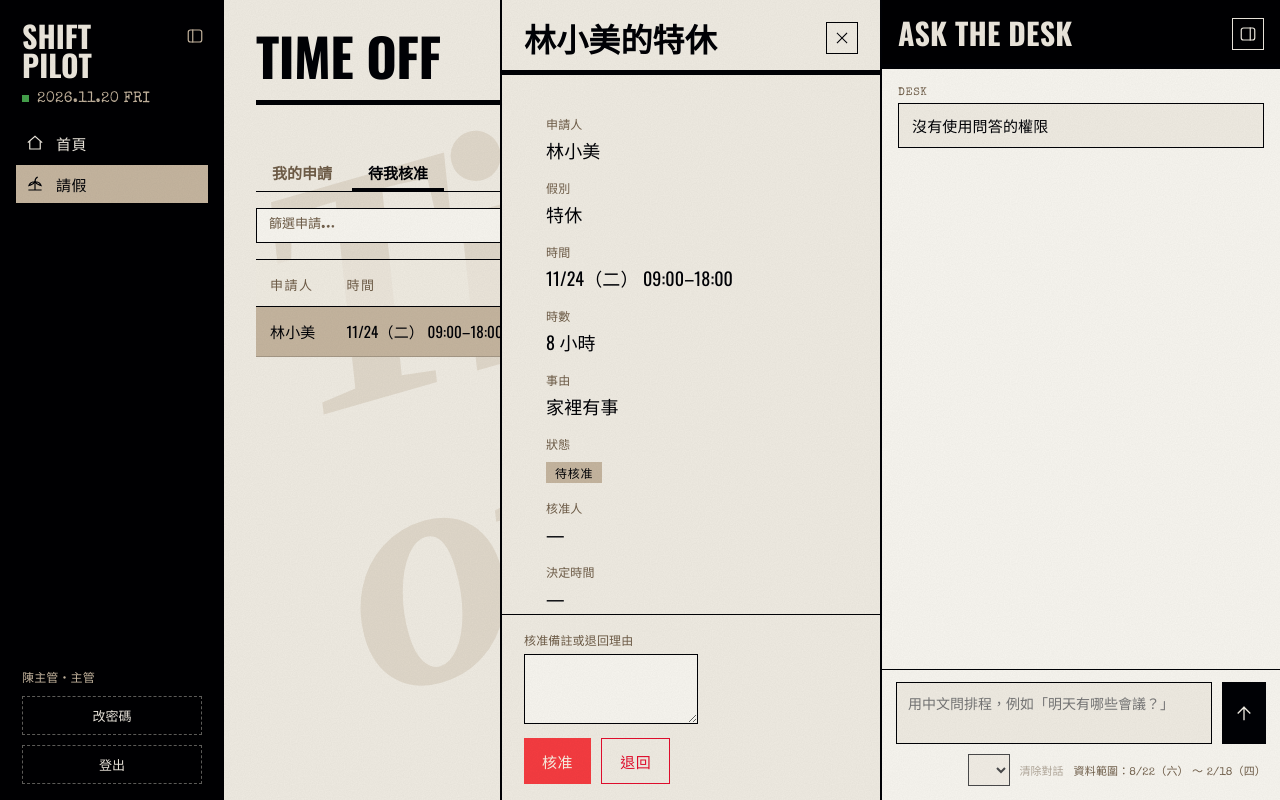
Test: testRejectRequiresNote
The width and height of the screenshot is (1280, 800).
Click the button "退回".
click(636, 761)  # box [601,738,670,784]
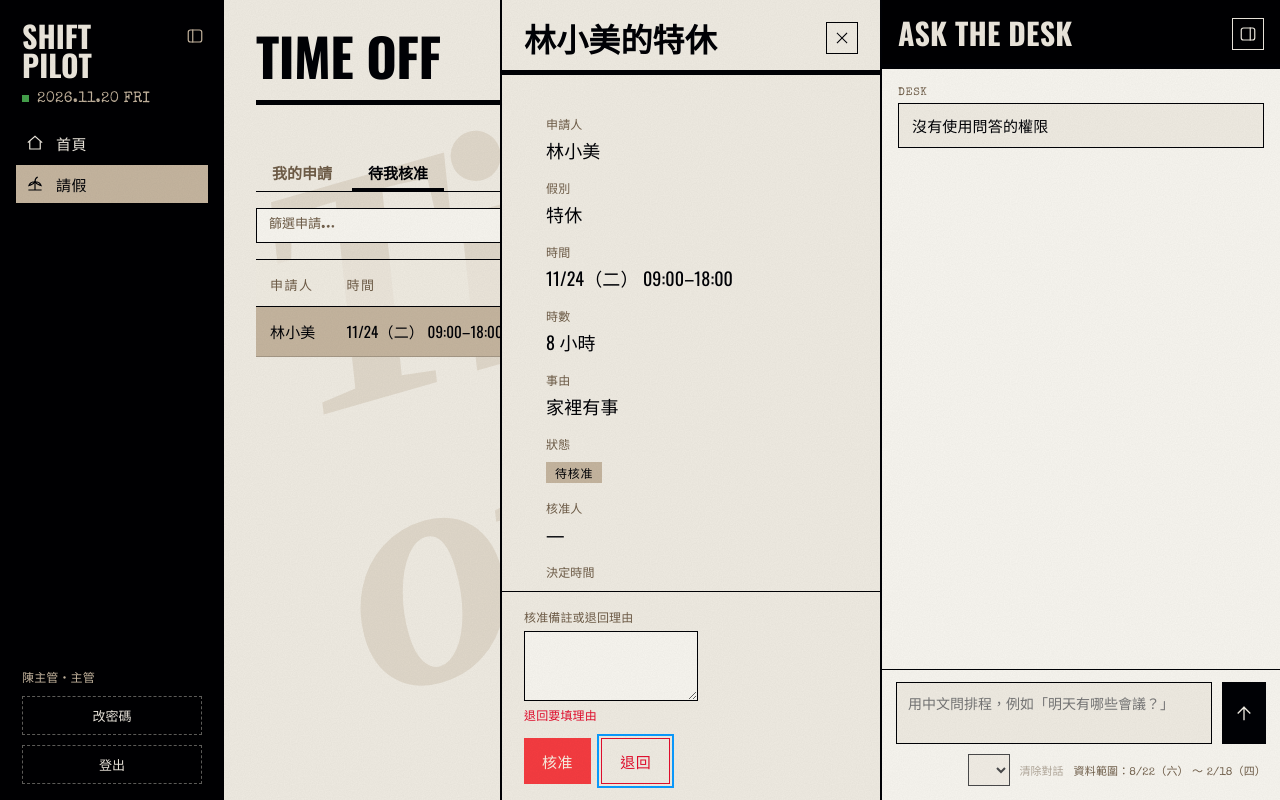
Check: the text "退回要填理由" is shown, box [524,712,597,724]
